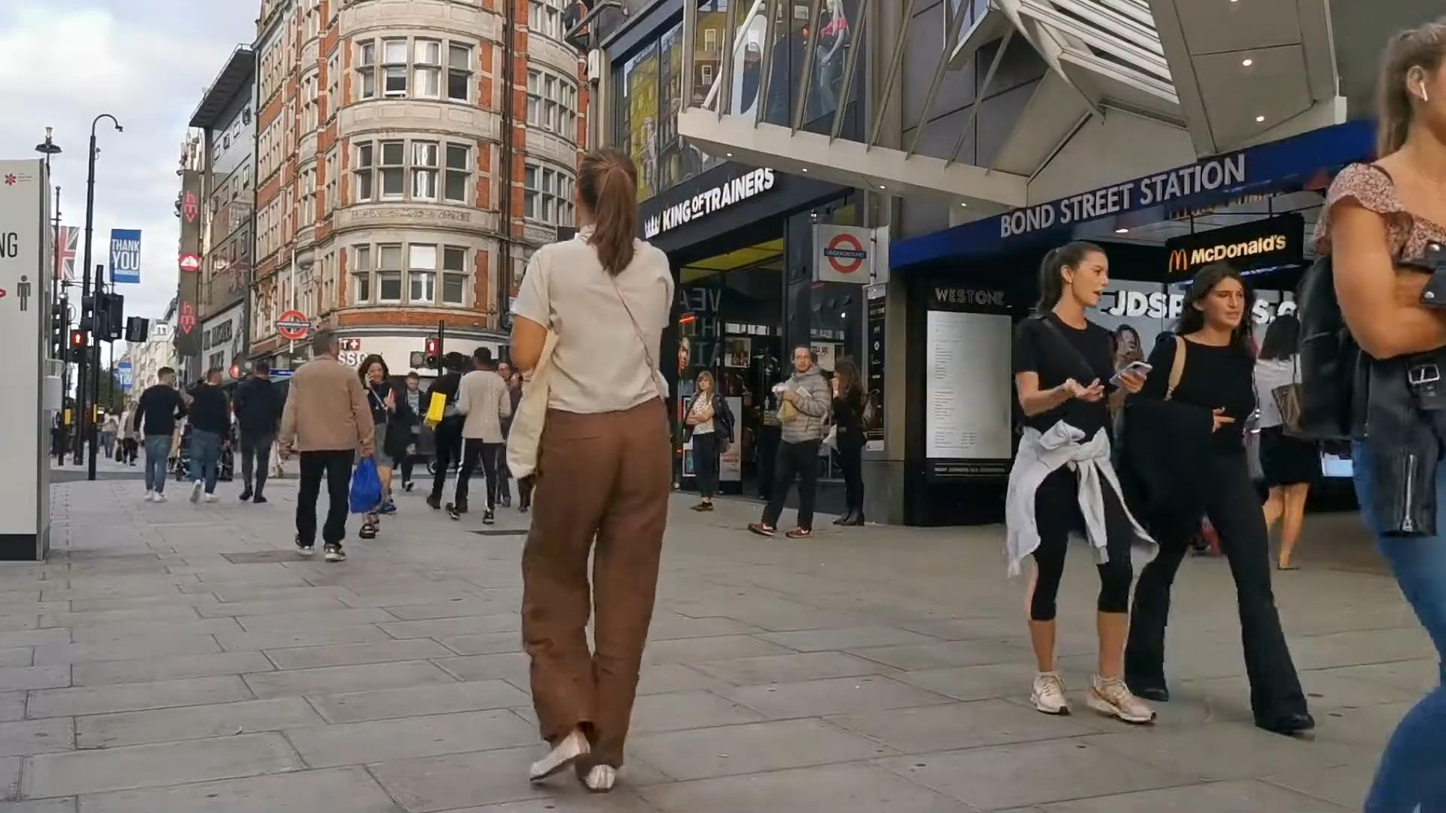no-helmet: (1375, 15, 1446, 162), (575, 146, 638, 277), (1176, 263, 1255, 335), (1036, 240, 1110, 312), (1259, 314, 1301, 362), (834, 358, 859, 399), (312, 327, 340, 360), (359, 354, 389, 383), (696, 370, 715, 405), (790, 344, 812, 373), (472, 346, 492, 370), (158, 367, 176, 387), (404, 371, 420, 392), (496, 360, 511, 379), (254, 362, 270, 379)
